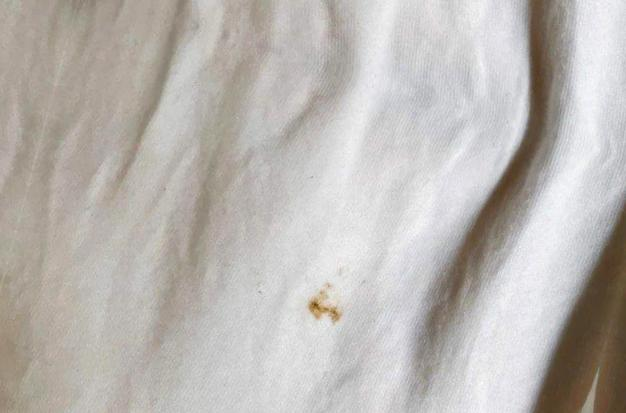stain: (297, 284, 357, 330)
